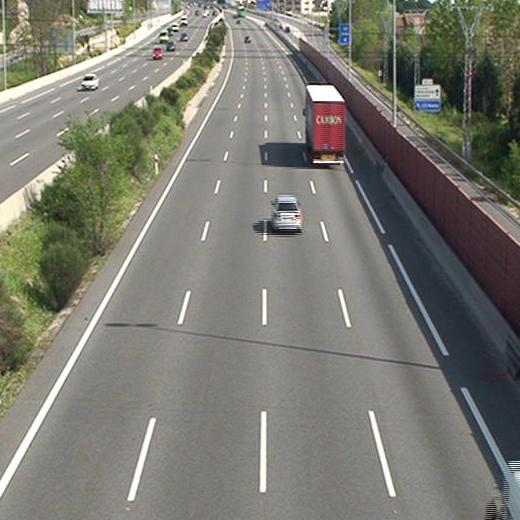car: (272, 196, 302, 232)
truck: (304, 85, 345, 165)
